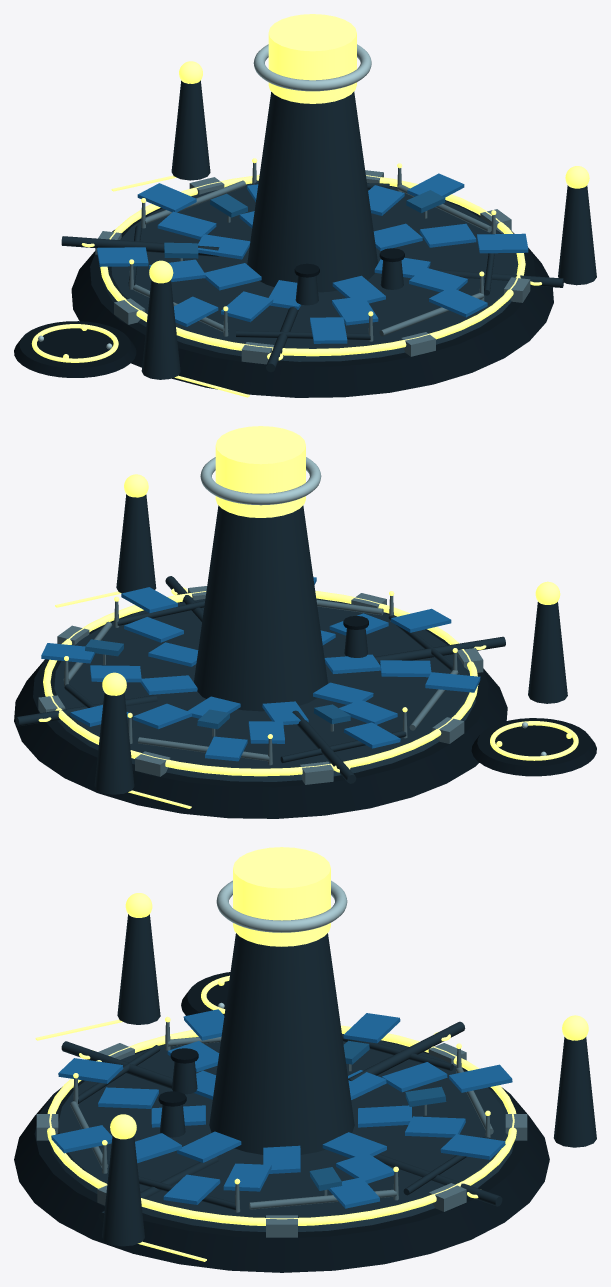
The model's file is solarPlant-stage2.glb.
3 renders of one model, top to bottom at view 1: azimuth 30°, elevation 25°; view 2: azimuth 150°, elevation 25°; view 3: azimuth 270°, elevation 25°, orthographic. The views are drawn at different scales.
Parts seen in each view (by area): view 1: upper-deck, receiver-tower, armored-foundation, plasma-receiver, landing-pad, perimeter-light, energy-pylon-1, energy-pylon-2, energy-pylon-0, detail, utility-conduit-2, heliostat-2-1 (+32 smaller); view 2: upper-deck, receiver-tower, armored-foundation, plasma-receiver, landing-pad, perimeter-light, energy-pylon-1, energy-pylon-2, energy-pylon-0, detail, utility-conduit-1, landing-guidance-light (+27 smaller); view 3: upper-deck, receiver-tower, armored-foundation, plasma-receiver, perimeter-light, energy-pylon-1, energy-pylon-2, energy-pylon-0, detail, utility-conduit-2, landing-pad, heliostat-2-6 (+35 smaller).
Part boxes in pixels (x1=…): upper-deck: x1=102, y1=183, x2=518, y2=361; receiver-tower: x1=247, y1=91, x2=377, y2=292; armored-foundation: x1=71, y1=183, x2=553, y2=397; plasma-receiver: x1=268, y1=14, x2=356, y2=103; landing-pad: x1=14, y1=321, x2=136, y2=377; perimeter-light: x1=100, y1=175, x2=525, y2=356; energy-pylon-1: x1=141, y1=280, x2=180, y2=379; energy-pylon-2: x1=171, y1=80, x2=210, y2=180; energy-pylon-0: x1=558, y1=185, x2=596, y2=285; detail: x1=253, y1=44, x2=371, y2=91; utility-conduit-2: x1=61, y1=236, x2=219, y2=256; heliostat-2-1: x1=429, y1=287, x2=487, y2=317; upper-deck: x1=45, y1=599, x2=475, y2=781; receiver-tower: x1=194, y1=505, x2=327, y2=711; armored-foundation: x1=14, y1=598, x2=507, y2=818; plasma-receiver: x1=215, y1=426, x2=305, y2=517; landing-pad: x1=471, y1=718, x2=596, y2=776; perimeter-light: x1=43, y1=591, x2=478, y2=776; energy-pylon-1: x1=528, y1=602, x2=567, y2=703; energy-pylon-2: x1=94, y1=692, x2=134, y2=794; energy-pylon-0: x1=116, y1=494, x2=156, y2=593; detail: x1=200, y1=457, x2=321, y2=505; utility-conduit-1: x1=374, y1=636, x2=505, y2=664; landing-guidance-light: x1=490, y1=721, x2=578, y2=760; upper-deck: x1=49, y1=1040, x2=514, y2=1231; receiver-tower: x1=209, y1=933, x2=354, y2=1154; armored-foundation: x1=14, y1=1040, x2=549, y2=1272; plasma-receiver: x1=233, y1=847, x2=330, y2=946; perimeter-light: x1=47, y1=1025, x2=516, y2=1225; energy-pylon-1: x1=117, y1=914, x2=160, y2=1024; energy-pylon-2: x1=553, y1=1037, x2=596, y2=1147; energy-pylon-0: x1=102, y1=1136, x2=144, y2=1246; detail: x1=216, y1=880, x2=347, y2=932; utility-conduit-2: x1=348, y1=1021, x2=465, y2=1080; landing-pad: x1=181, y1=972, x2=230, y2=1015; heliostat-2-6: x1=440, y1=1134, x2=505, y2=1159.
Size of the model in its own units: 12.5 by 5.81 by 10.52.
